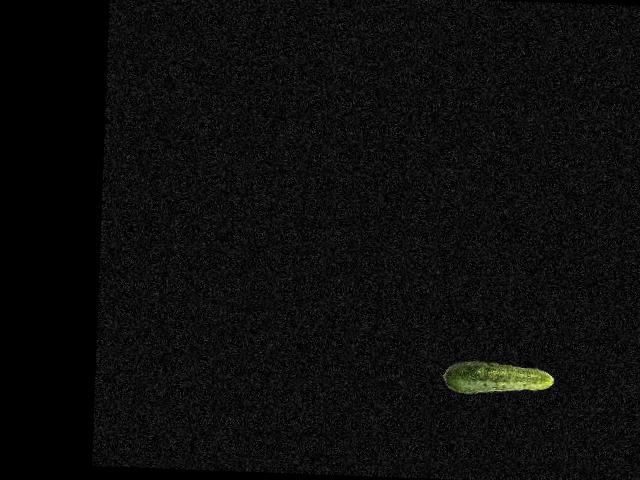cucumber: (441, 358, 553, 396)
